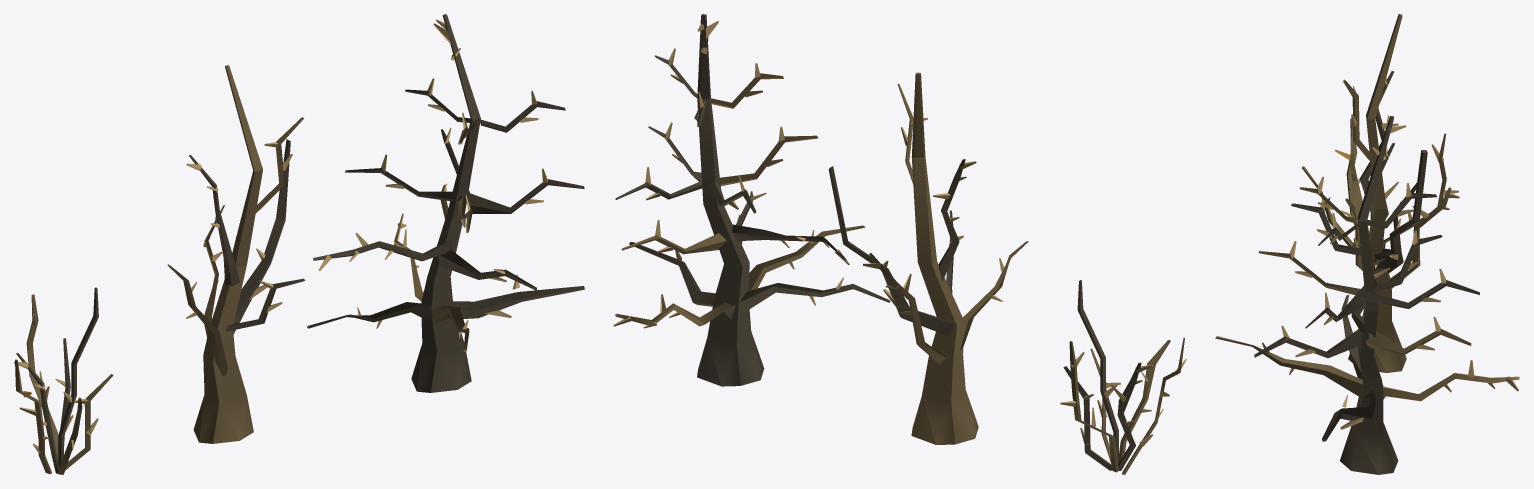
File: Dry_ trees_0I_edit.fbx
3 renders of one model, left to right at view 1: azimuth 30°, elevation 25°; view 2: azimuth 150°, elevation 25°; view 3: azimuth 270°, elevation 25°, orthographic. The views are drawn at different scales.
Visible parts, largest first — view 1: Dry_spruce_0I, Dry_ tree_0I, Dry_bush_0I; view 2: Dry_spruce_0I, Dry_ tree_0I, Dry_bush_0I; view 3: Dry_spruce_0I, Dry_ tree_0I, Dry_bush_0I.
Part boxes in pixels (x1=…): Dry_spruce_0I: x1=307, y1=14, x2=584, y2=392; Dry_ tree_0I: x1=167, y1=65, x2=304, y2=443; Dry_bush_0I: x1=14, y1=287, x2=113, y2=474; Dry_spruce_0I: x1=613, y1=14, x2=890, y2=386; Dry_ tree_0I: x1=828, y1=72, x2=1028, y2=444; Dry_bush_0I: x1=1060, y1=280, x2=1186, y2=474; Dry_spruce_0I: x1=1215, y1=115, x2=1519, y2=474; Dry_ tree_0I: x1=1291, y1=14, x2=1459, y2=372; Dry_bush_0I: x1=1302, y1=118, x2=1459, y2=272.
Bounding box in the file's own units: 8.19 × 5.05 × 3.9.
